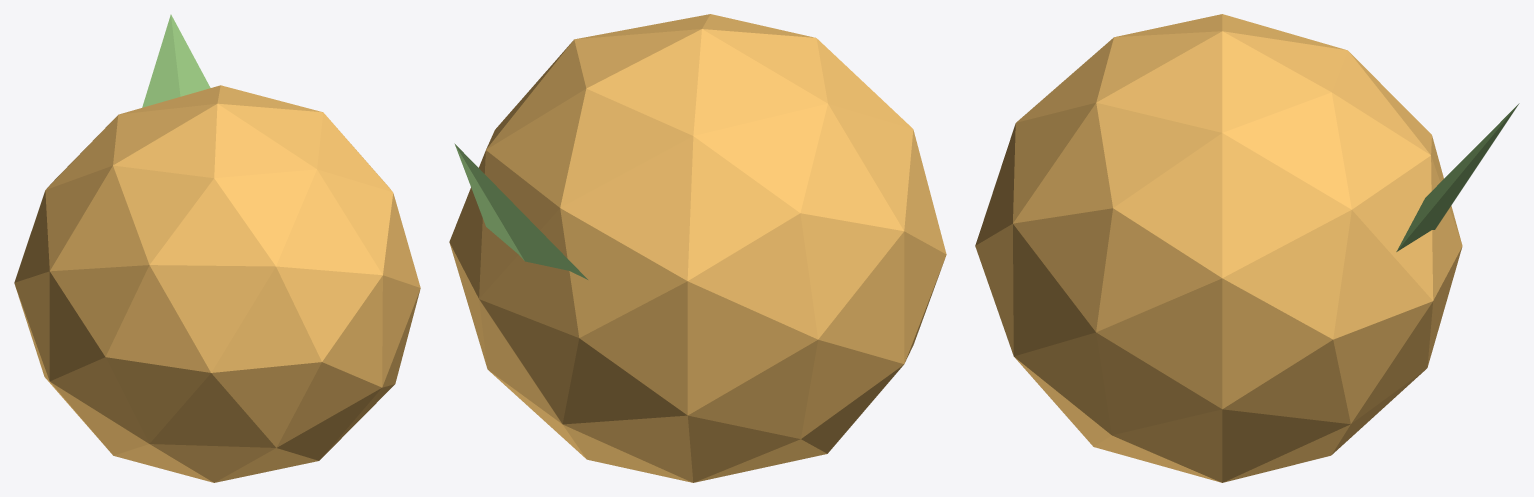
File: fruta_laranja.fbx
The picture shows the model from 3 angles, left to right: view 1: azimuth 30°, elevation 25°; view 2: azimuth 150°, elevation 25°; view 3: azimuth 270°, elevation 25°; orthographic projection. The views are drawn at different scales.
Visible parts, largest first — view 1: fruta_laranja~Fruta@orange, fruta_laranja~Folha@fruitleaf; view 2: fruta_laranja~Fruta@orange, fruta_laranja~Folha@fruitleaf; view 3: fruta_laranja~Fruta@orange, fruta_laranja~Folha@fruitleaf.
Part boxes in pixels (x1,y1,x2,y2): fruta_laranja~Fruta@orange: (14, 85, 420, 482); fruta_laranja~Folha@fruitleaf: (142, 14, 210, 107); fruta_laranja~Fruta@orange: (449, 14, 946, 482); fruta_laranja~Folha@fruitleaf: (454, 143, 587, 279); fruta_laranja~Fruta@orange: (975, 14, 1462, 482); fruta_laranja~Folha@fruitleaf: (1396, 103, 1519, 251).
Bounding box in the file's own units: 0.2852 × 0.291 × 0.3356.
